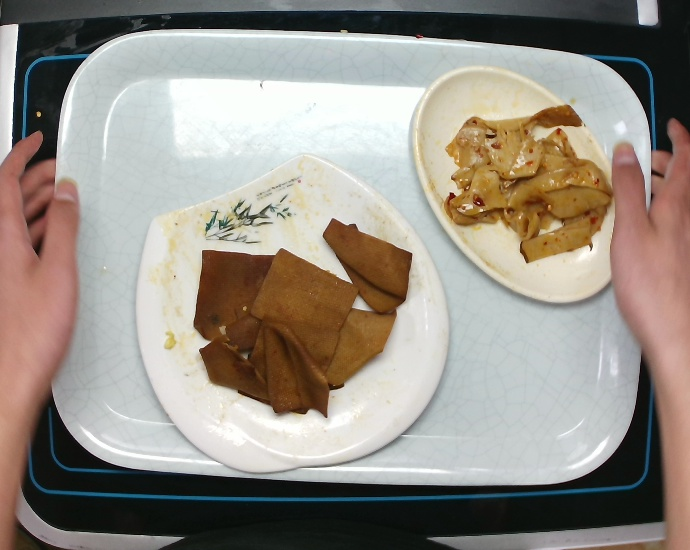JYsf-Mian_Pan: (129, 149, 454, 478)
JYsf-Tuo_Yuan_Wan: (411, 61, 637, 308)
